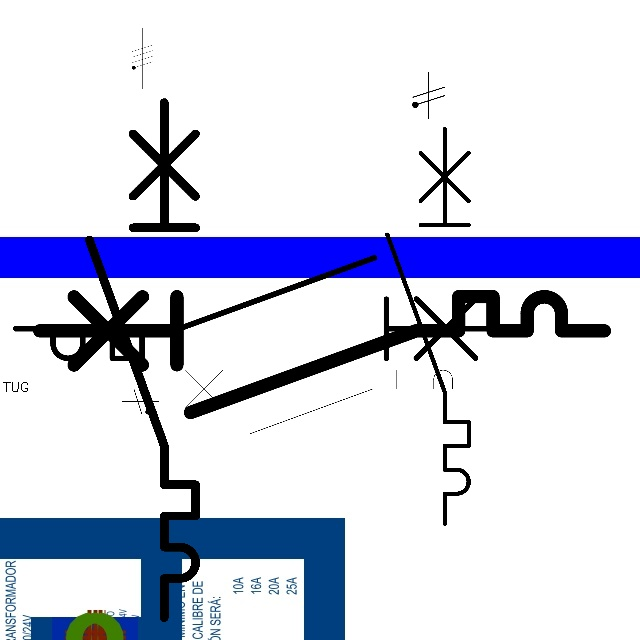interruptor_termomagnetico: (25, 282, 619, 427), (76, 89, 209, 631), (3, 245, 518, 371), (377, 119, 479, 534), (158, 362, 484, 441)
